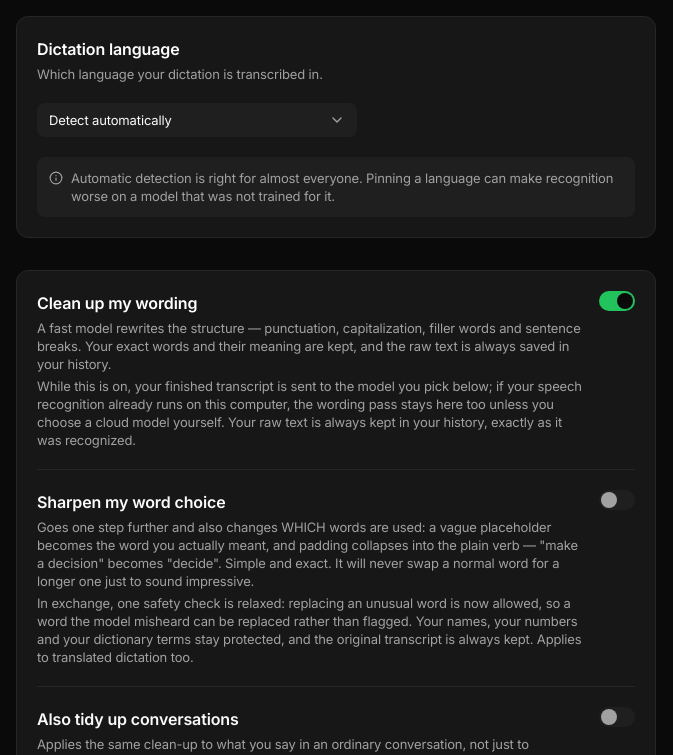
it: LanguageTab › closes on Escape without changing the setting
Click the dropdown with test id "dictation-language" at (110, 120), box 37,103 -> 357,137
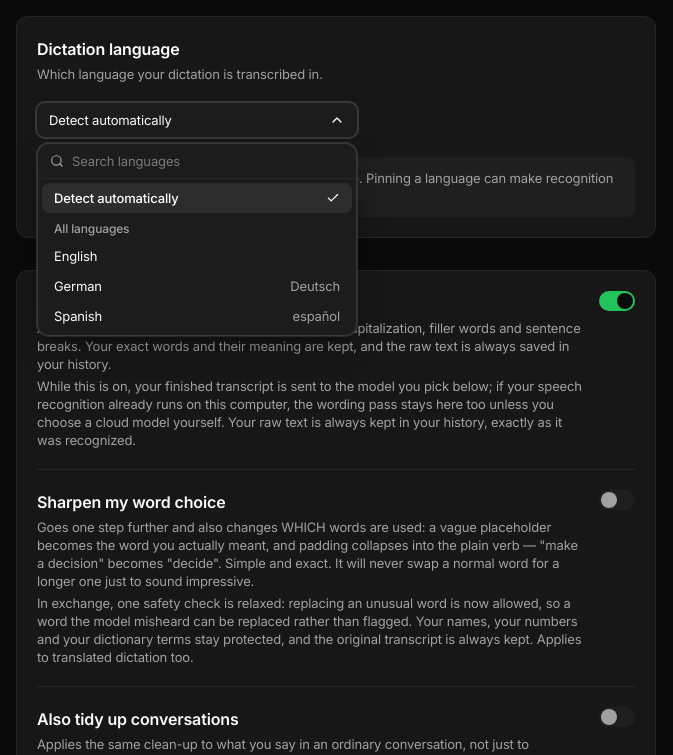
Press Escape in the element with test id "dictation-language-panel", box 37,143 -> 357,336
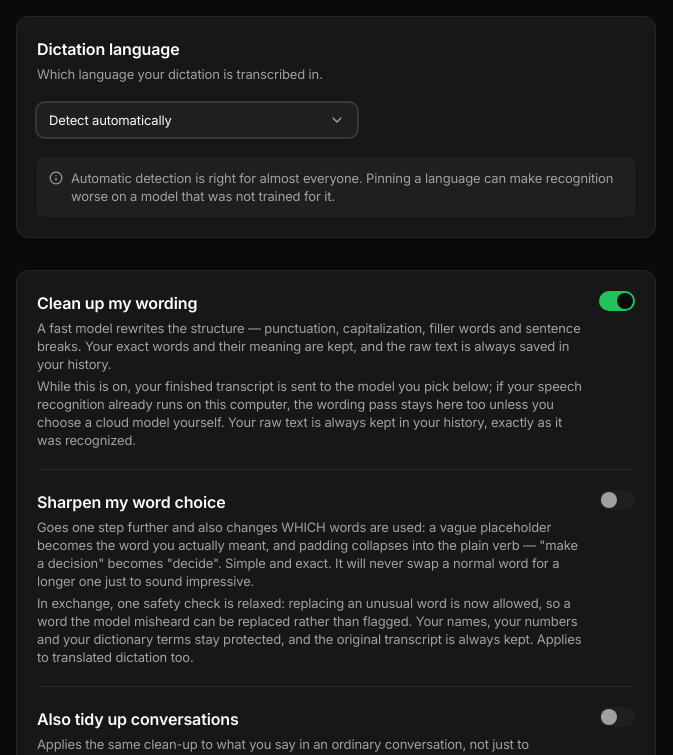
expect the element with test id "dictation-language-panel" is gone: met
